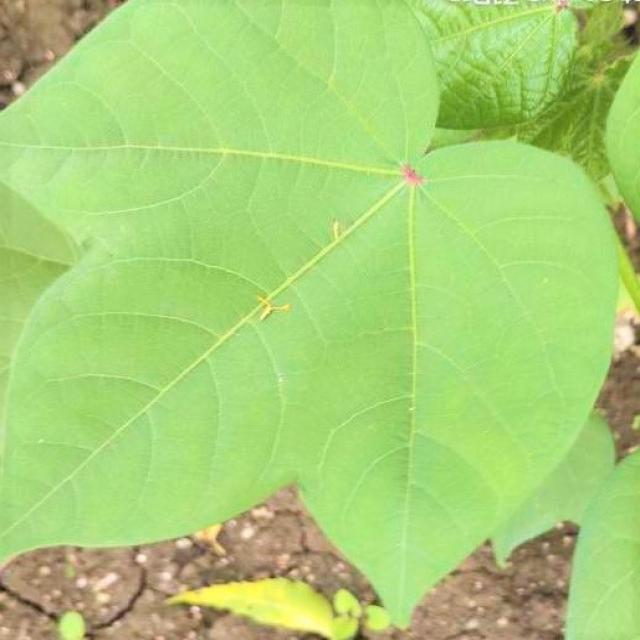Healthy Leaf: (16, 28, 640, 640)
